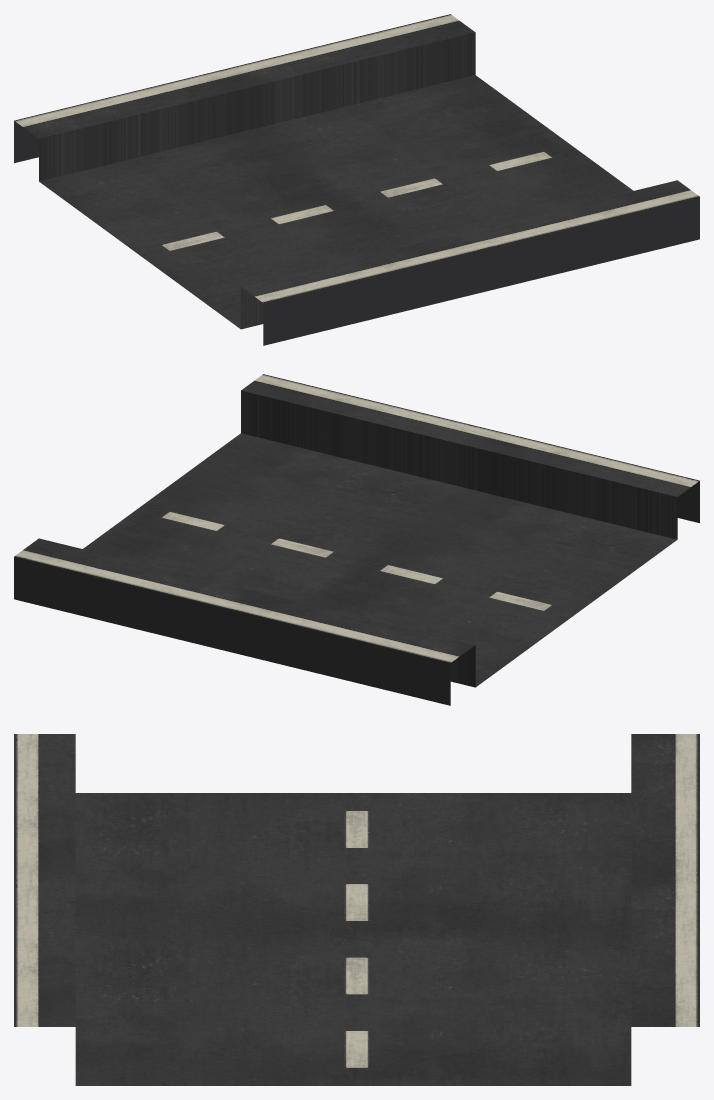
The model's file is Straight.gltf.
3 renders of one model, top to bottom at view 1: azimuth 30°, elevation 25°; view 2: azimuth 150°, elevation 25°; view 3: azimuth 270°, elevation 25°, orthographic. The views are drawn at different scales.
Parts seen in each view (by area): view 1: Plane.001; view 2: Plane.001; view 3: Plane.001.
Part boxes in pixels (x1=…): Plane.001: x1=14, y1=14, x2=699, y2=345; Plane.001: x1=14, y1=374, x2=699, y2=705; Plane.001: x1=14, y1=734, x2=699, y2=1085.
Bounding box in the file's own units: 2.02 × 0.1889 × 2.
Materials: 1 (1 with a texture image).
